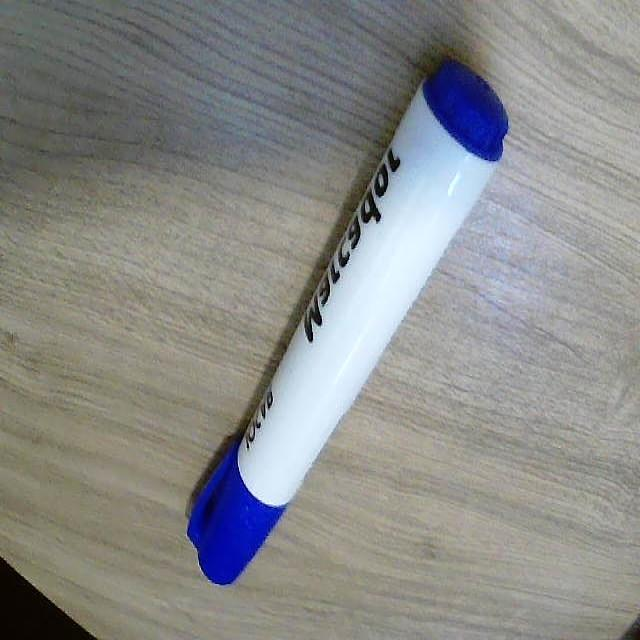caneta: (178, 48, 523, 597)
